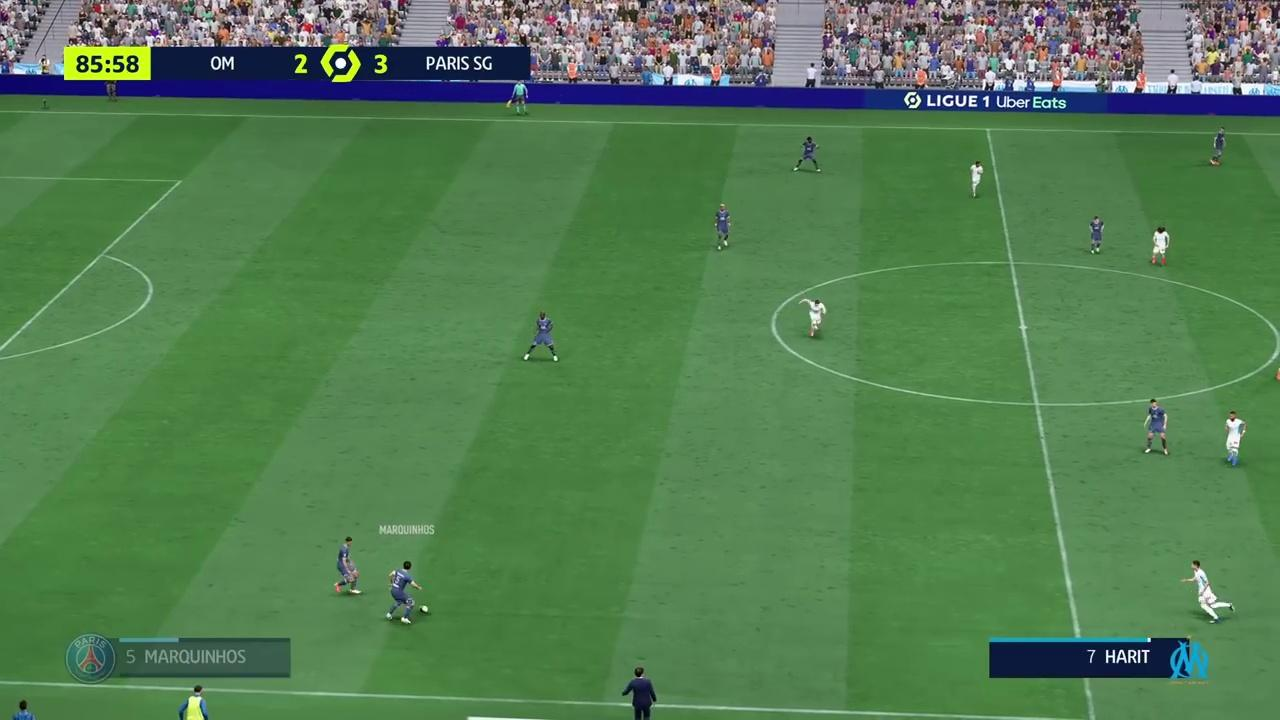scoreboard: (161, 46, 530, 81)
timestamp: (65, 47, 153, 79)
